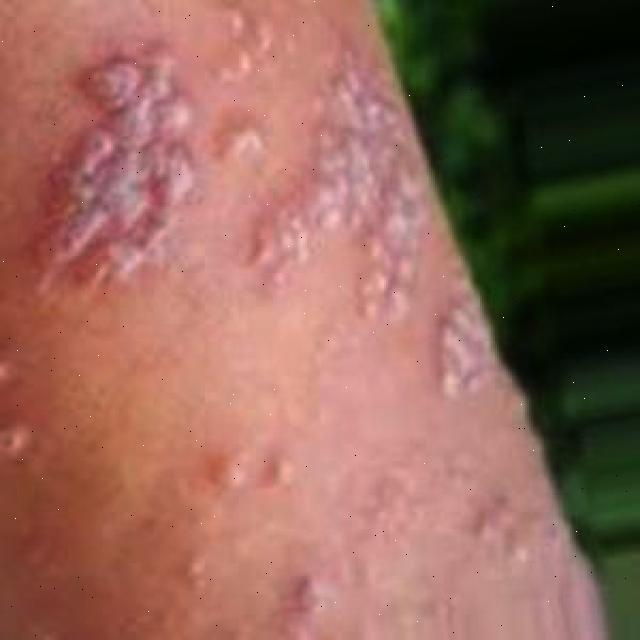Shingles: (204, 0, 433, 318), (22, 42, 200, 312), (429, 289, 498, 409), (0, 418, 37, 460)
